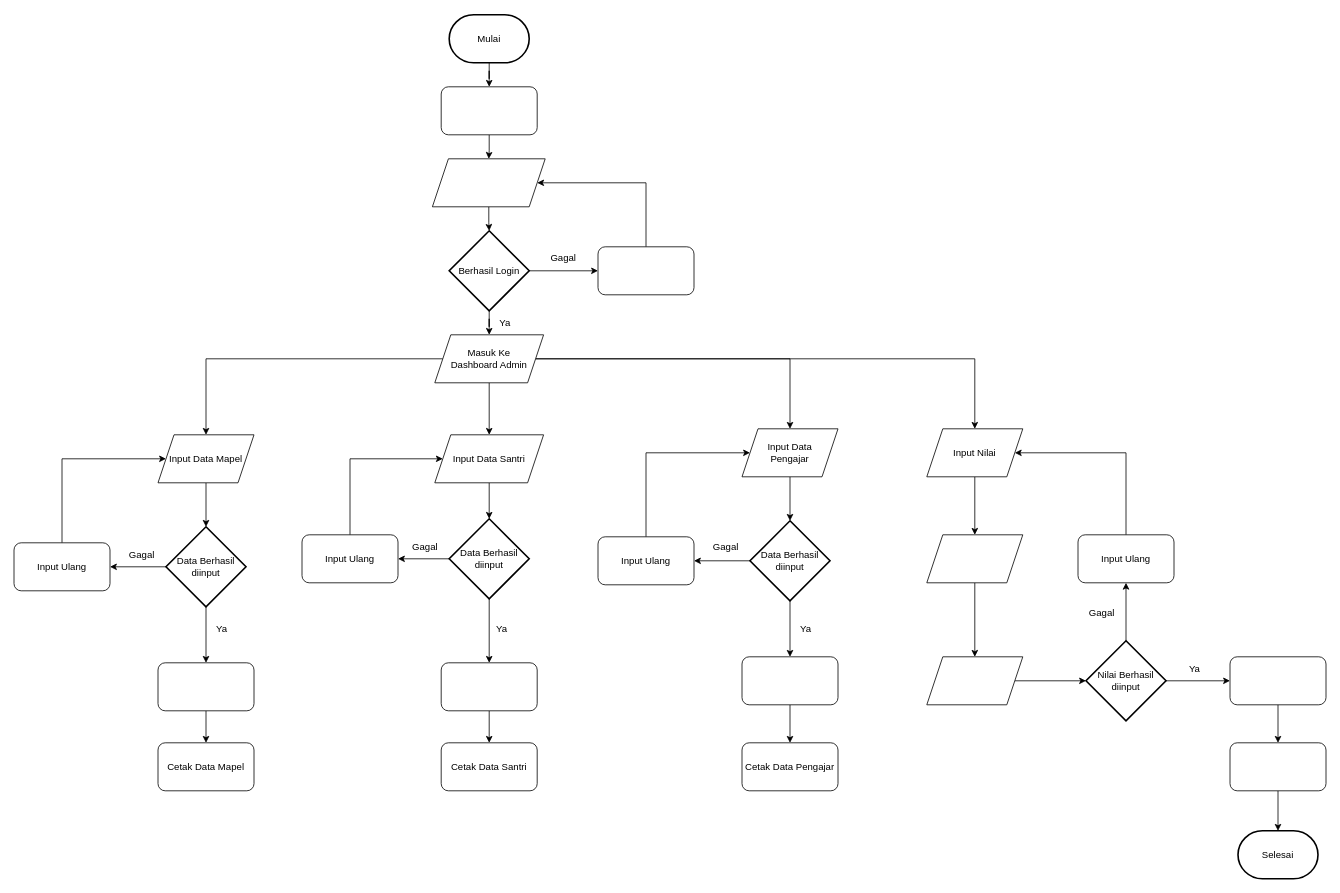
The diagram is 1340 pixels wide and 893 high, and some of its shapes have lost their labels. The centre of each missing label's shape, as x and y in pixels:
"Admin Login" goes at (x=488, y=110).
"Cetak Data Nilai" goes at (x=1277, y=766).
"Data Mapel Tersimpan" goes at (x=205, y=686).
"Data Nilai Tersimpan" goes at (x=1277, y=680).
"Data Pengajar Tersimpan" goes at (x=789, y=680).
"Data Snatri Tersimpan" goes at (x=488, y=686).
"Input Username dan Password" goes at (x=488, y=182).
"Login Ulang" goes at (x=645, y=270).
"Pilih Mapel" goes at (x=974, y=680).
"Pilih Santri" goes at (x=974, y=558).
